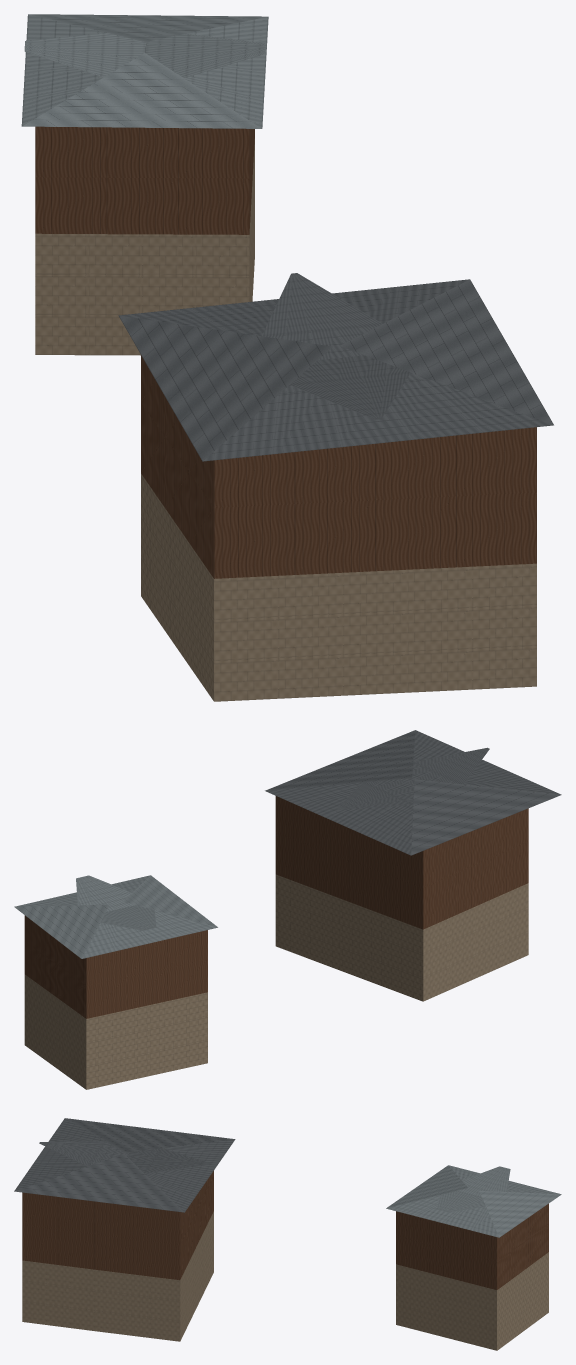
File: bld_c8_35_485.gltf
3 views of the same model, one above another, from view 1: azimuth 30°, elevation 25°; view 2: azimuth 150°, elevation 25°; view 3: azimuth 270°, elevation 25° (orthographic). The views are drawn at different scales.
Visible parts, largest first — view 1: bld_c8_35_485; view 2: bld_c8_35_485; view 3: bld_c8_35_485.
Part boxes in pixels (box(x1,y1,x2,y2)): bld_c8_35_485: box(21, 14, 553, 701); bld_c8_35_485: box(14, 730, 561, 1089); bld_c8_35_485: box(14, 1118, 561, 1350).
Bounding box in the file's own units: 21.73 × 12.2 × 41.2.
4 materials, 4 textured.
